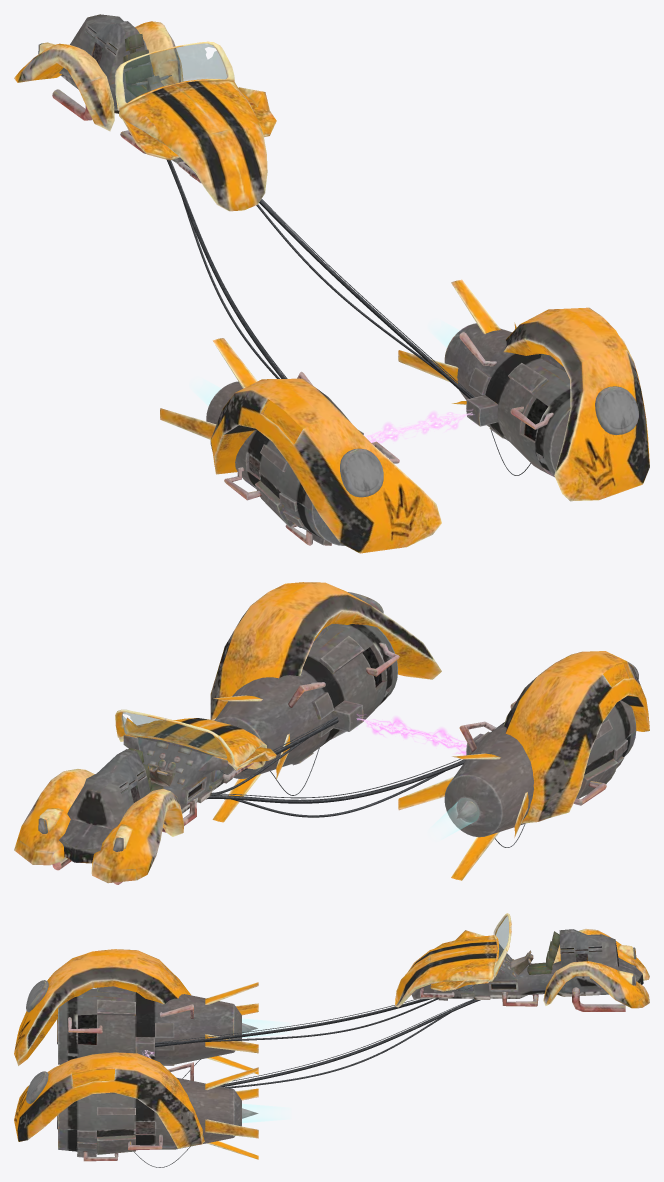
File: pod-scarabee.glb
The picture shows the model from 3 angles, top to bottom: view 1: azimuth 30°, elevation 25°; view 2: azimuth 150°, elevation 25°; view 3: azimuth 270°, elevation 25°; orthographic projection. The views are drawn at different scales.
Visible parts, largest first — view 1: Cylinder_0, Plane_4, NurbsPath.001_3, lg.002_2; view 2: Cylinder_0, Plane_4, NurbsPath.001_3, lg.002_2, Cylinder.001_1; view 3: Cylinder_0, Plane_4, NurbsPath.001_3, Cylinder.001_1.
Boxes of the visible parts, x1,y1,x2,y2 form: Cylinder_0: (160, 279, 649, 553); Plane_4: (14, 14, 276, 211); NurbsPath.001_3: (167, 160, 530, 527); lg.002_2: (363, 409, 473, 443); Cylinder_0: (210, 582, 649, 880); Plane_4: (14, 709, 276, 884); NurbsPath.001_3: (206, 716, 525, 847); lg.002_2: (356, 714, 466, 754); Cylinder.001_1: (435, 798, 479, 836); Cylinder_0: (14, 949, 258, 1161); Plane_4: (395, 913, 649, 1011); NurbsPath.001_3: (134, 984, 480, 1167); Cylinder.001_1: (242, 1018, 281, 1123).
Bounding box in the file's own units: 3.14 × 2.26 × 6.43.
4 materials, 4 textured.
